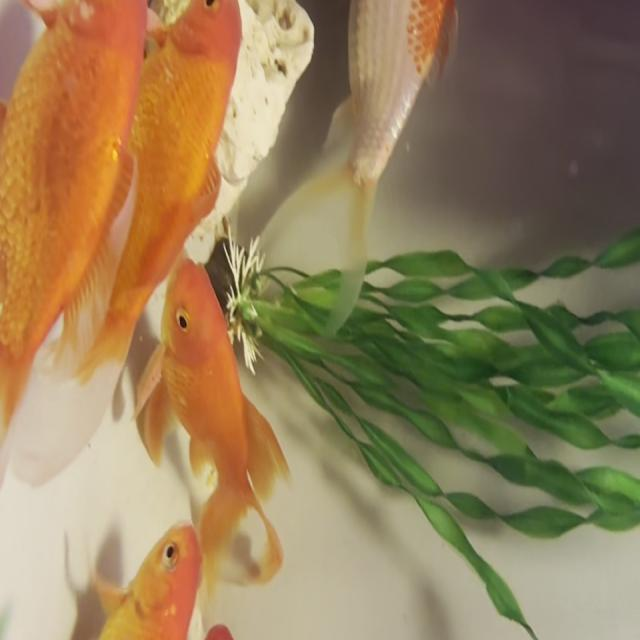fish: (0, 0, 141, 556), (142, 248, 292, 602), (132, 0, 256, 357), (340, 0, 465, 204), (62, 520, 199, 640)
